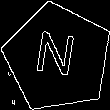N_S: (34, 29, 82, 86)
